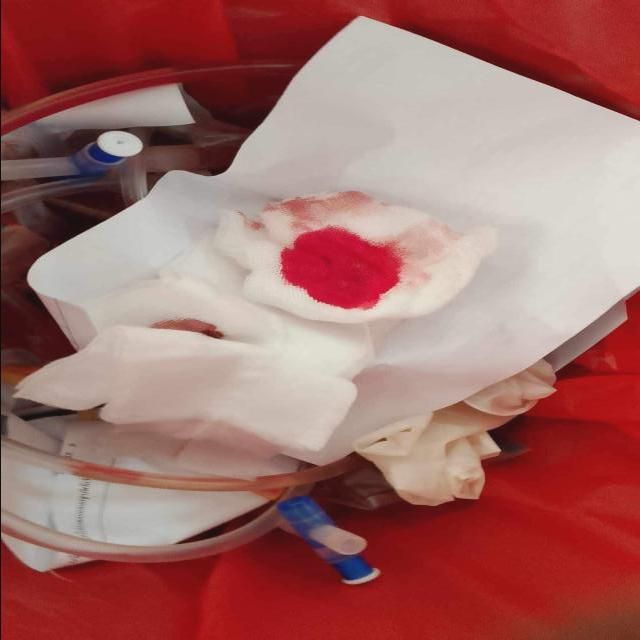General: (3, 14, 638, 586)
Infectious: (212, 190, 499, 326), (354, 358, 558, 508)
Sharps: (274, 495, 381, 587), (2, 130, 145, 183)
